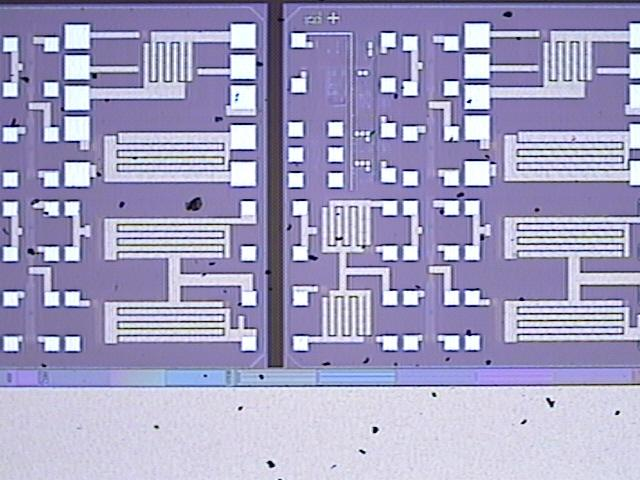PO CONTAMINATION: (7, 8, 629, 476)
